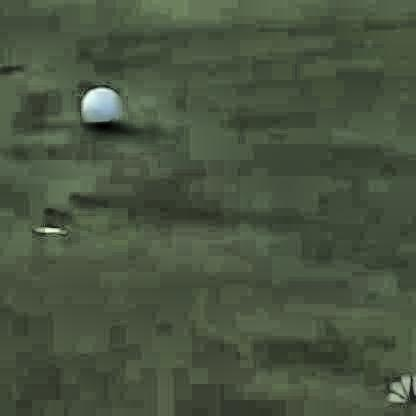golfball: (80, 83, 117, 122)
